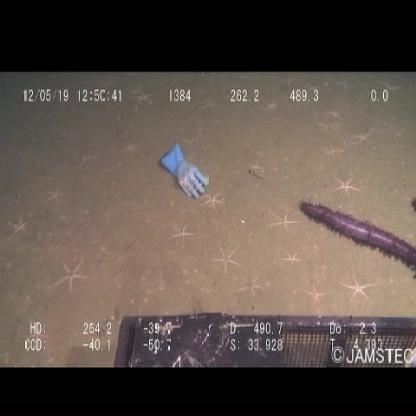Bio: (294, 194, 416, 276)
Rov: (112, 312, 416, 366)
Rác: (158, 141, 210, 202)
